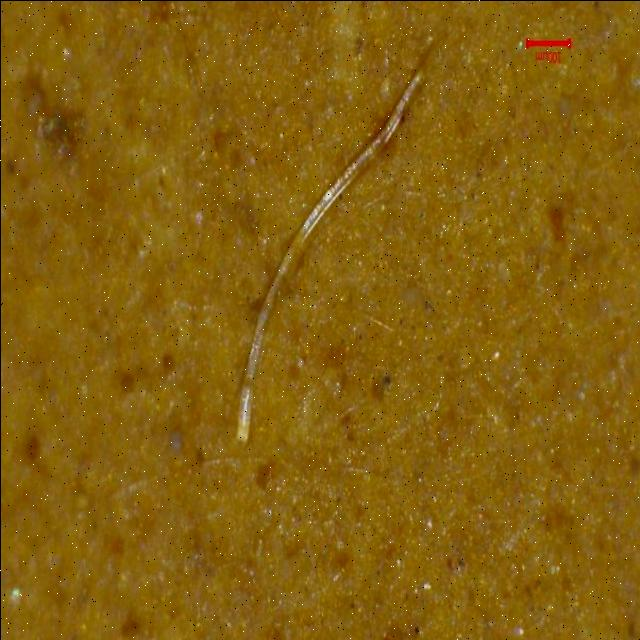Fibre: (228, 61, 432, 448)
